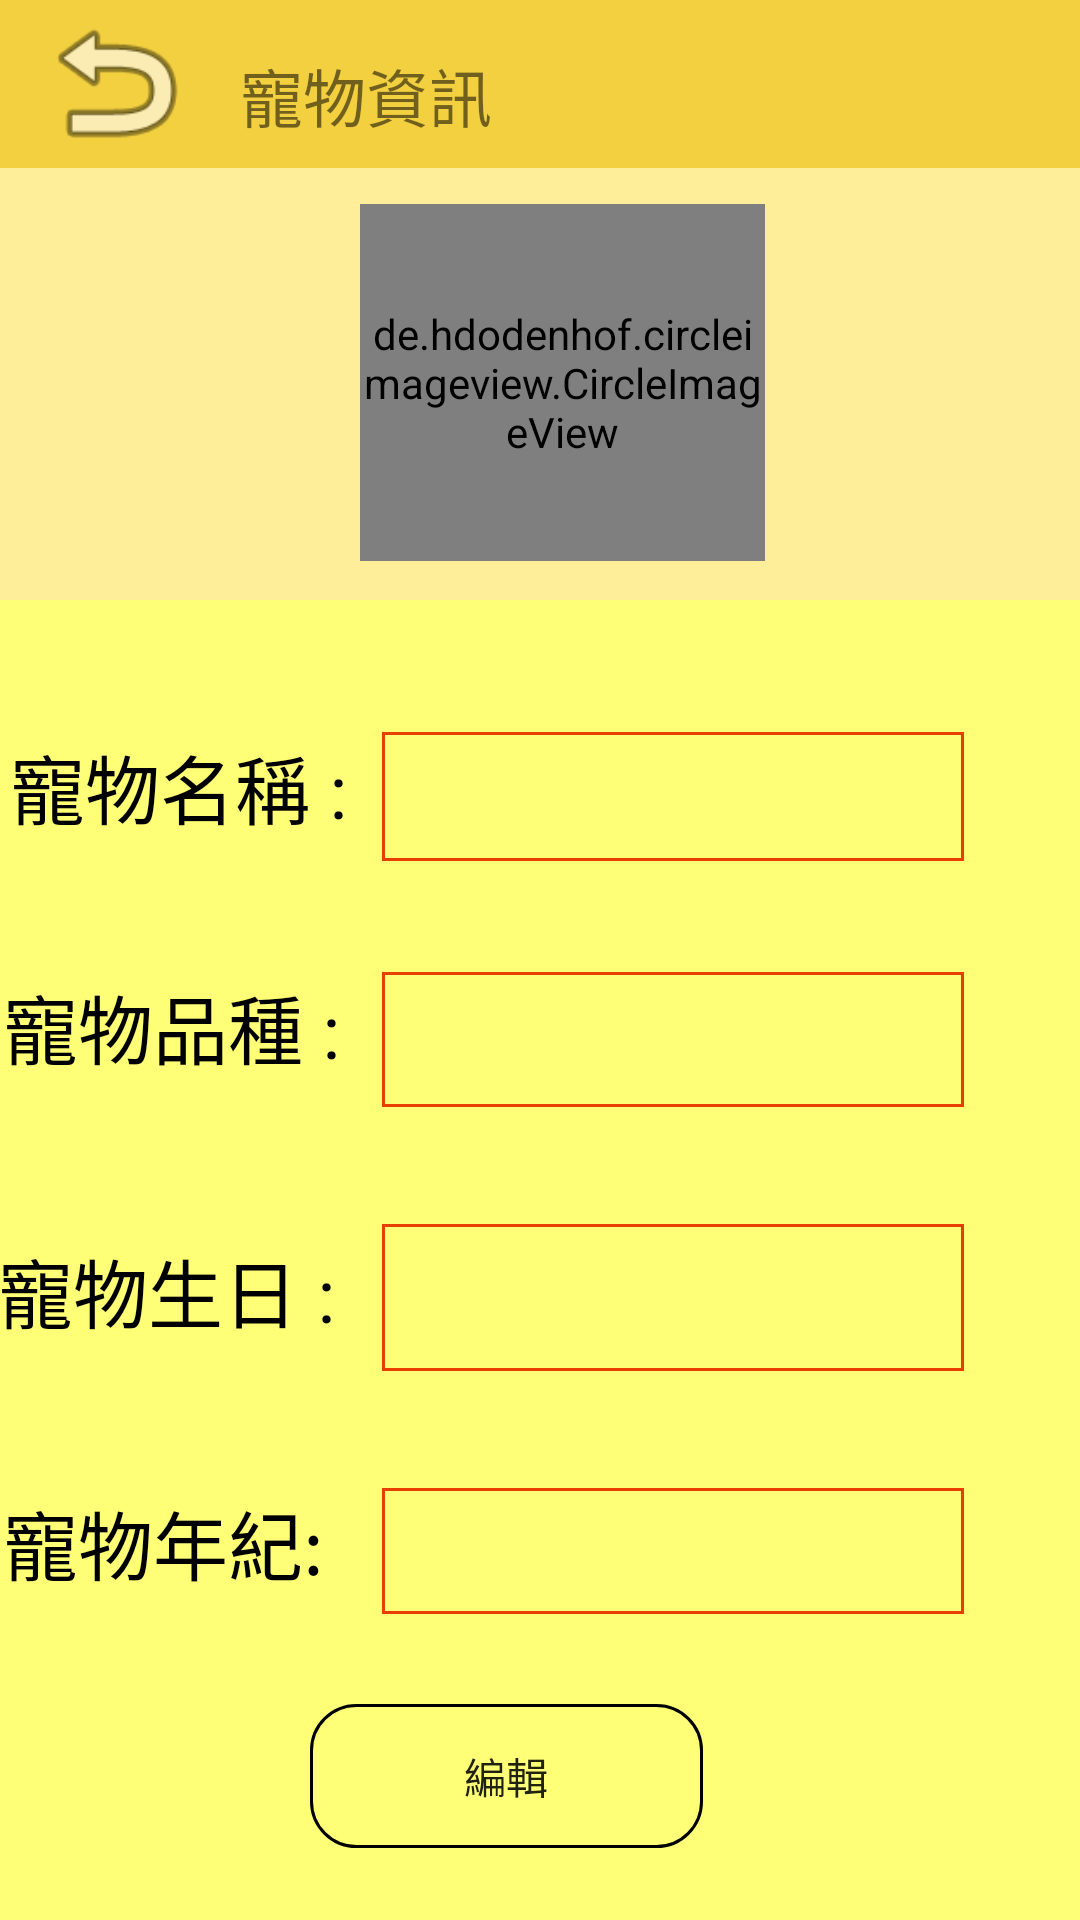

Icons on this 1080 × 1920 Android screen, each with its box as bbox(x1, y1, x2, y2):
revert: bbox(58, 30, 177, 138)
